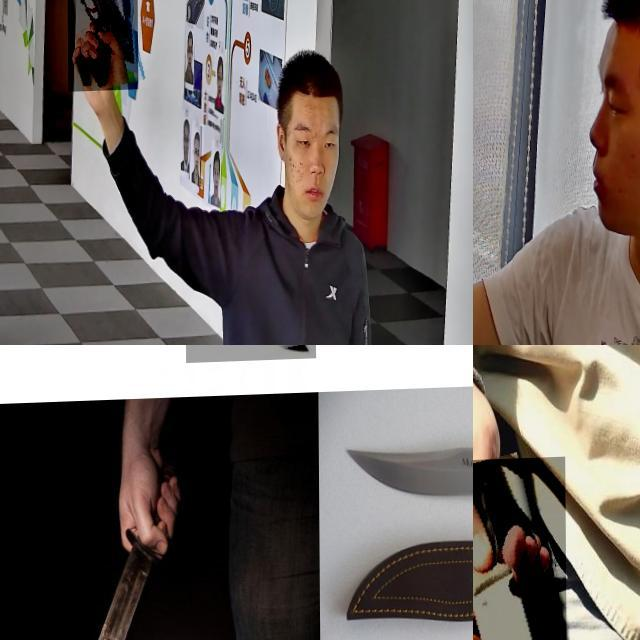-: (73, 470, 180, 640), (473, 459, 566, 640), (336, 438, 473, 515), (185, 345, 315, 414)
gun-knife-thesis - v11 Yolov5 augmented: (473, 0, 530, 169), (66, 0, 137, 92)
